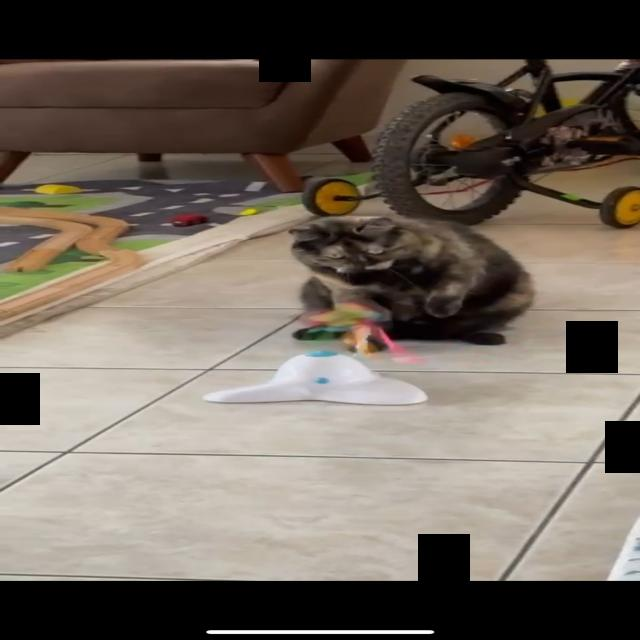authorized: (287, 214, 535, 345)
